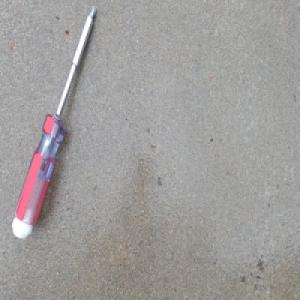Screwdriver: (12, 4, 98, 238)
